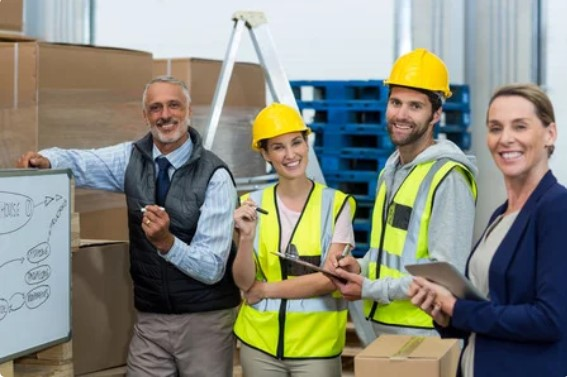worker: (236, 105, 350, 359), (363, 49, 467, 325)
